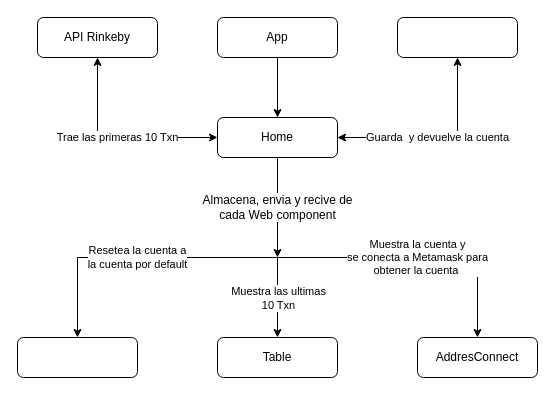
Image size: 555x403. Some labels were removed from this diagram. The centre of each missing label's shape, as x and y in pixels:
"Contrato" belongs at point 457,37.
"NavBar" belongs at point 77,357.
